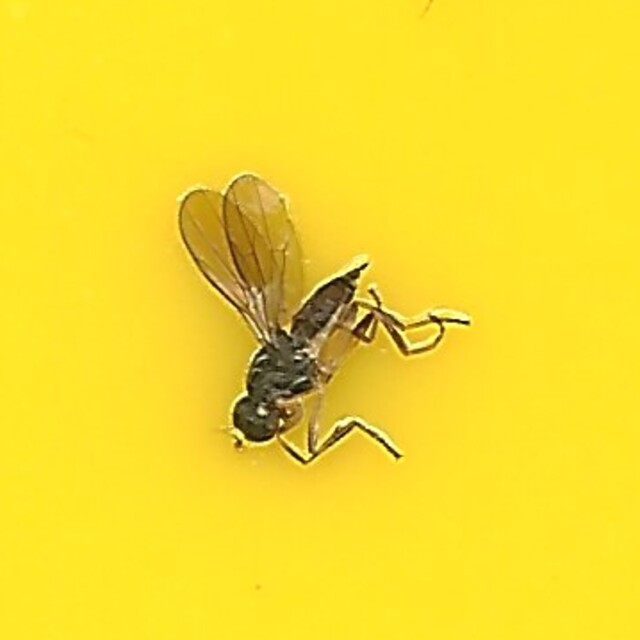Brachycera: (178, 174, 462, 466)
